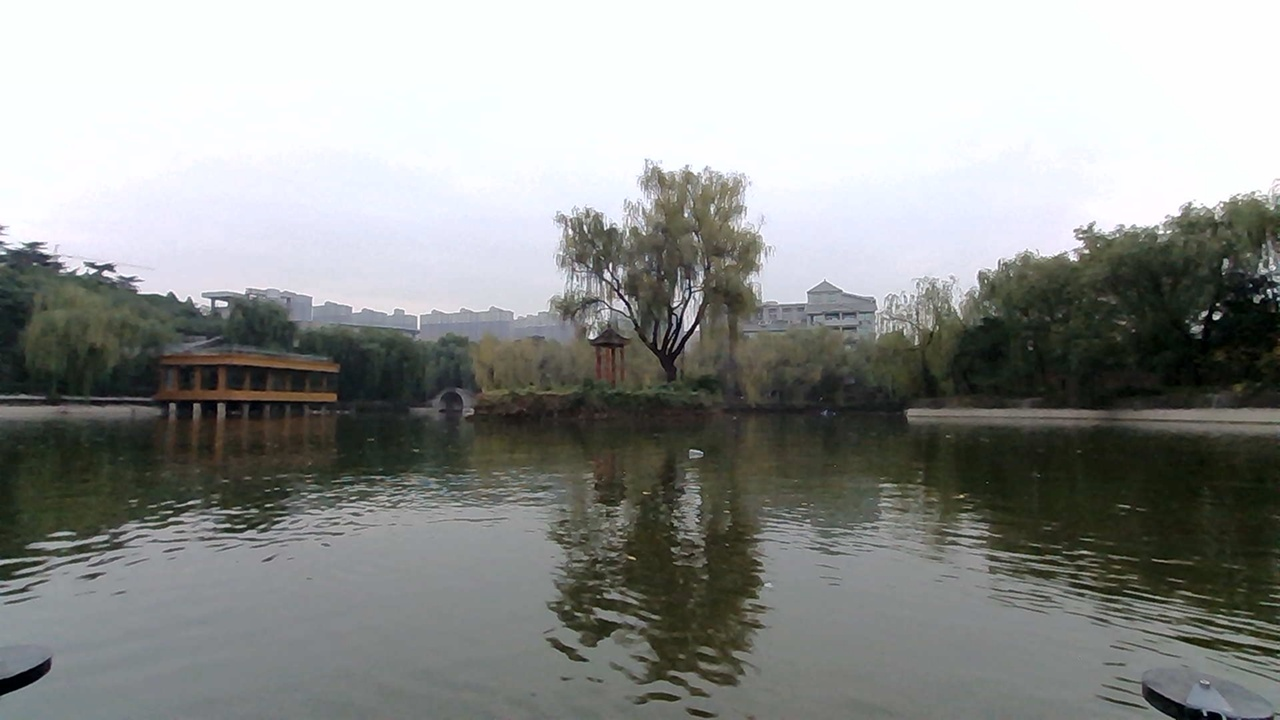bottle: (678, 433, 733, 465)
